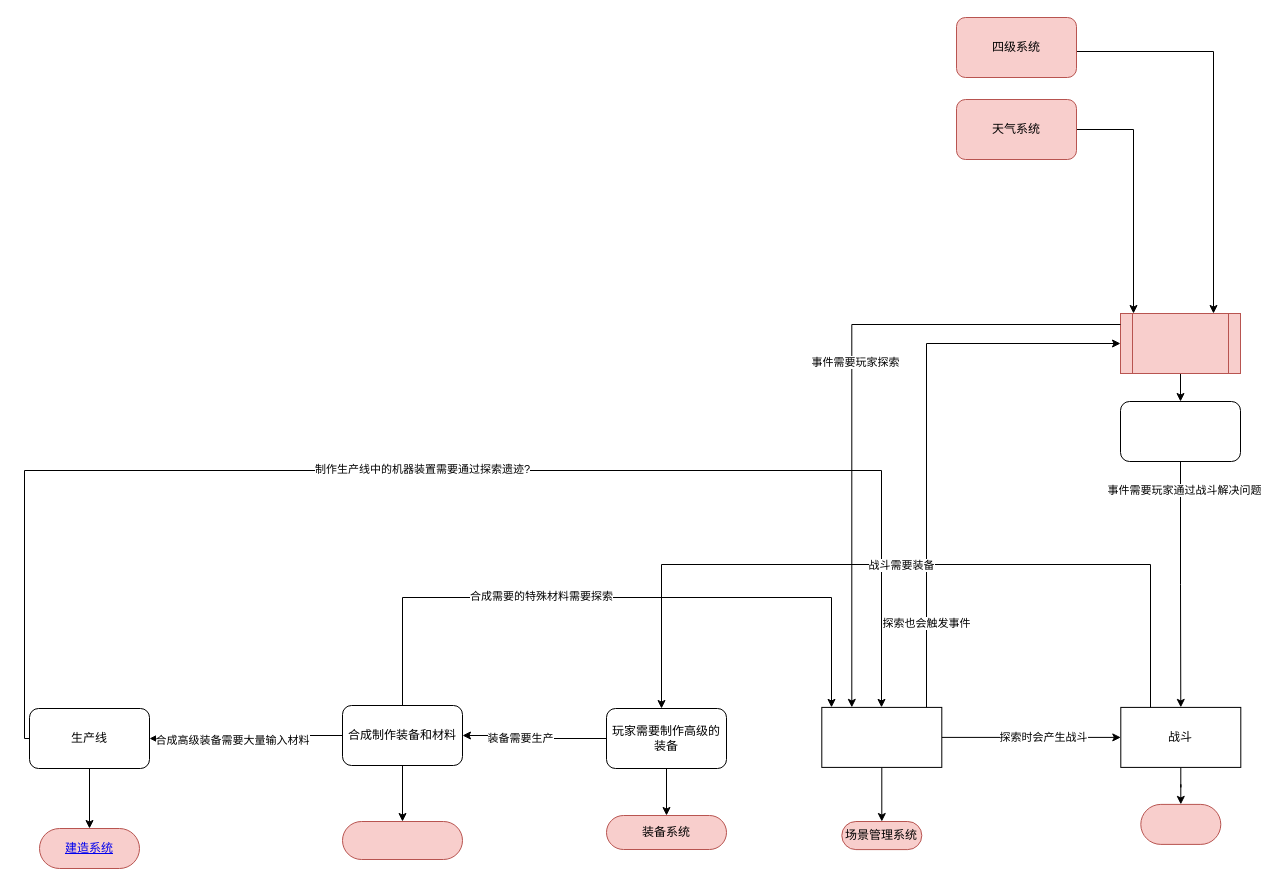
Some shapes in this 1278 by 886 pixel diagram are drawn without their labels. Each missing label, with the centre of its shape:
"合成系统" goes at point (402, 840).
"战斗系统" goes at point (1180, 823).
"探索" goes at point (881, 736).
"游戏事件系统" goes at point (1180, 343).
"游戏随着游戏时长的增加会产生事件" goes at point (1180, 431).
